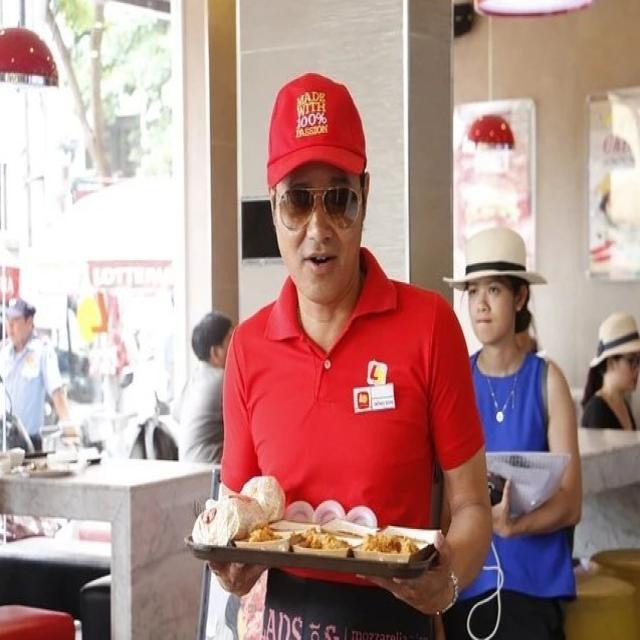no_helmet: (267, 73, 367, 188)
